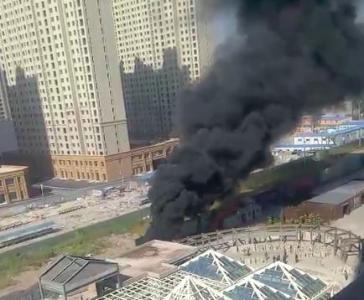smoke: (141, 1, 364, 241)
